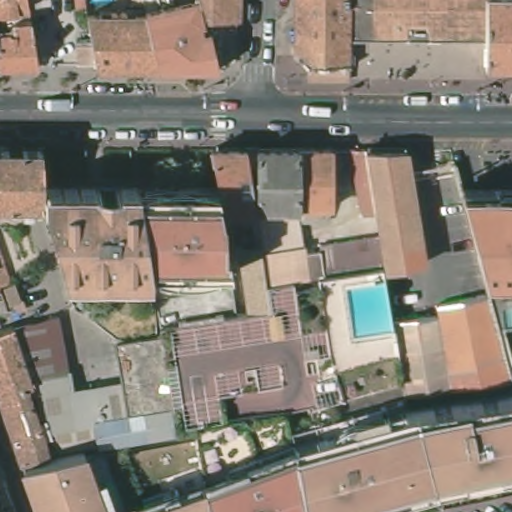pool: (343, 278, 401, 342)
